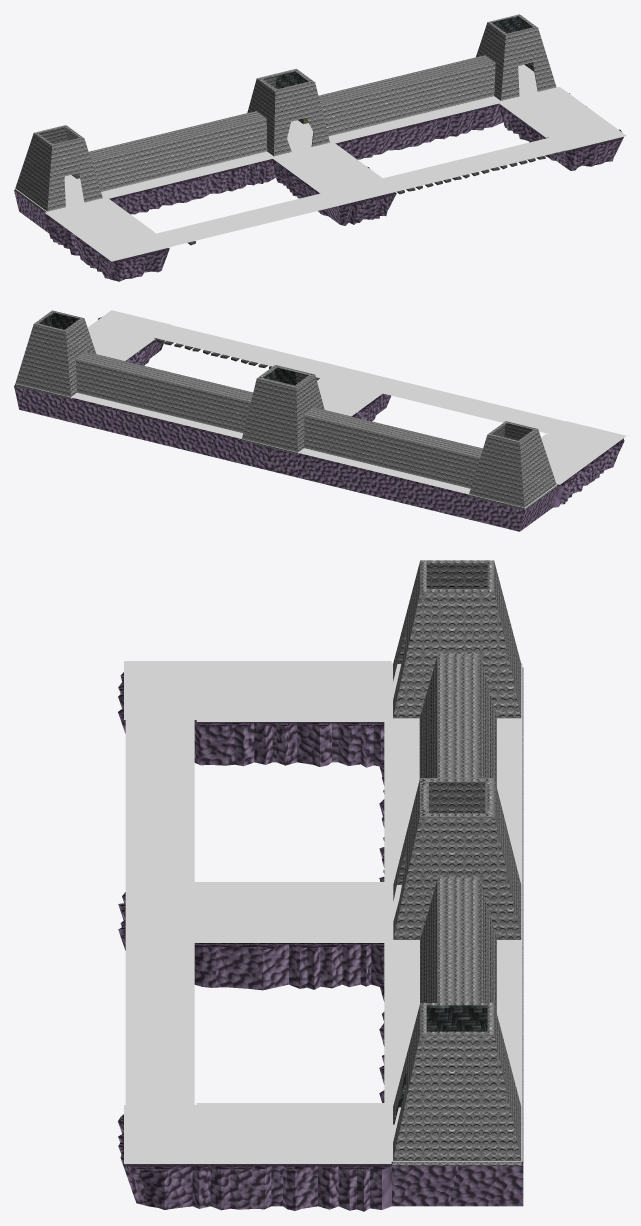
Rendered from level_A.glb.
The picture shows the model from 3 angles, top to bottom: view 1: azimuth 30°, elevation 25°; view 2: azimuth 150°, elevation 25°; view 3: azimuth 270°, elevation 25°; orthographic projection. The views are drawn at different scales.
Visible parts, largest first — view 1: Bunker, Plane.018, Level, Bunker.001; view 2: Bunker, Plane.018, Level, Bunker.001; view 3: Plane.018, Bunker, Level, Bunker.001.
Part boxes in pixels (box(x1,y1,x2,y2)): Bunker: box(15, 14, 556, 212); Plane.018: box(14, 64, 626, 261); Level: box(14, 93, 623, 281); Bunker.001: box(275, 16, 537, 146); Bunker: box(15, 310, 556, 509); Plane.018: box(14, 310, 626, 507); Level: box(14, 317, 624, 531); Bunker.001: box(38, 312, 296, 385); Plane.018: box(124, 661, 522, 1163); Bunker: box(392, 560, 522, 1165); Level: box(118, 667, 523, 1211); Bunker.001: box(393, 858, 487, 1124).
Size of the model in its own units: 18.33 by 2.77 by 6.15.
6 materials, 6 textured.
